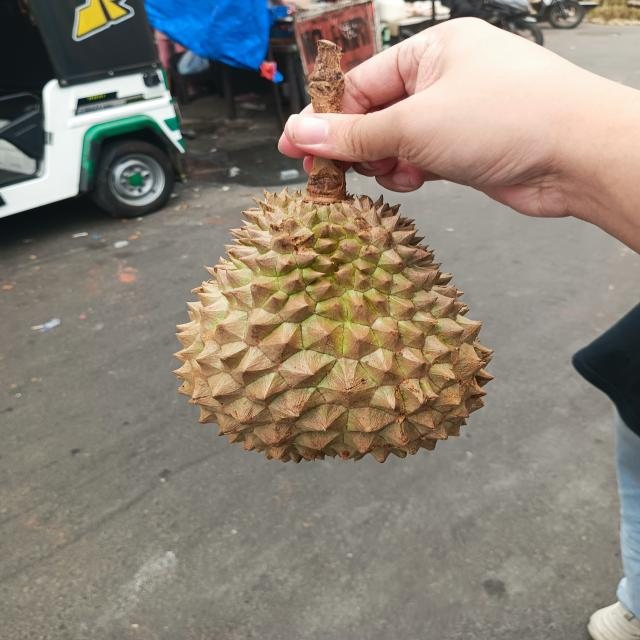mature: (171, 182, 492, 463)
